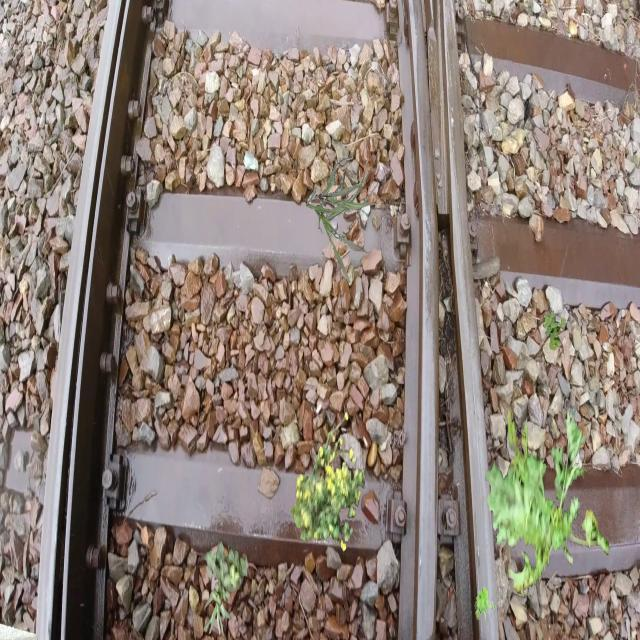Plant: (485, 405, 610, 601), (290, 412, 365, 552), (306, 158, 379, 282), (205, 540, 248, 606), (204, 580, 230, 636), (543, 311, 567, 352), (475, 587, 496, 620)
